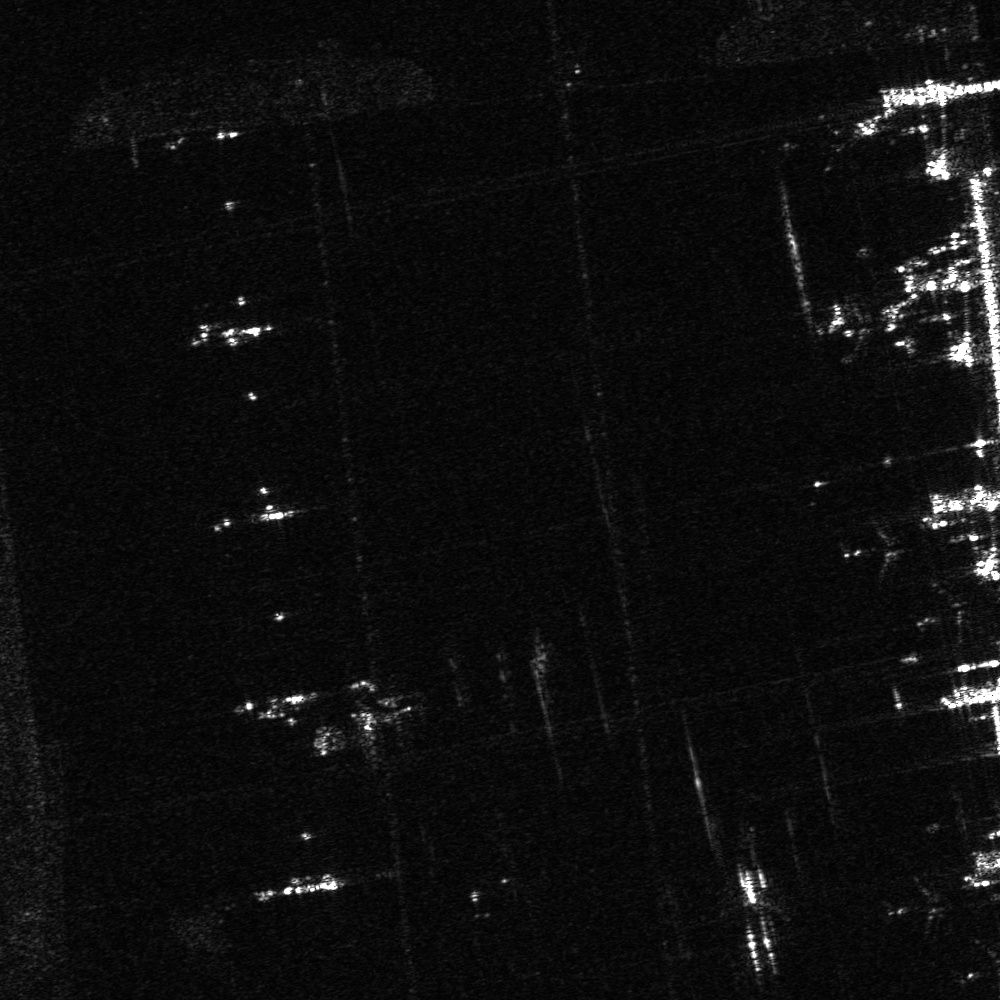Boeing787: (879, 870, 955, 943), (843, 518, 915, 586), (911, 579, 980, 646)
